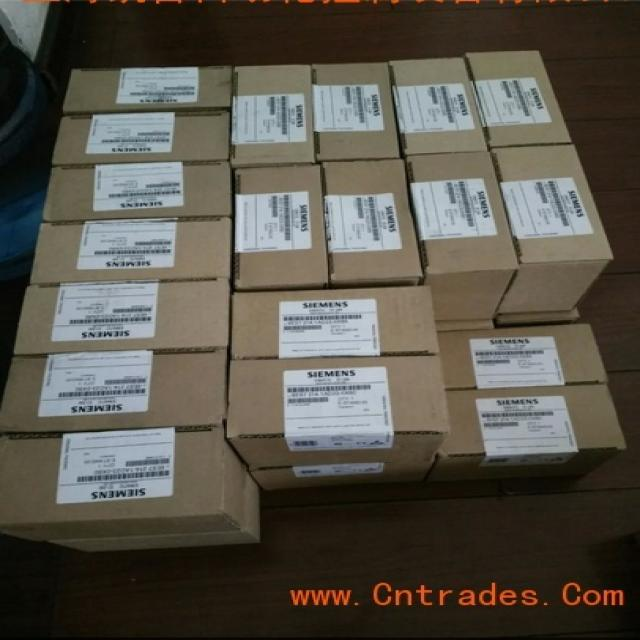box: (1, 427, 249, 542), (226, 356, 450, 470), (492, 145, 611, 312), (407, 152, 519, 323), (431, 384, 626, 480), (0, 352, 226, 431), (49, 474, 262, 553), (13, 281, 231, 352), (231, 287, 438, 359), (325, 161, 423, 288), (32, 220, 231, 281), (233, 165, 327, 287), (434, 324, 607, 388), (41, 163, 231, 220), (467, 50, 569, 146), (389, 59, 487, 156), (53, 113, 230, 163), (316, 64, 402, 162), (235, 65, 314, 164), (64, 67, 232, 109), (249, 466, 429, 491)
